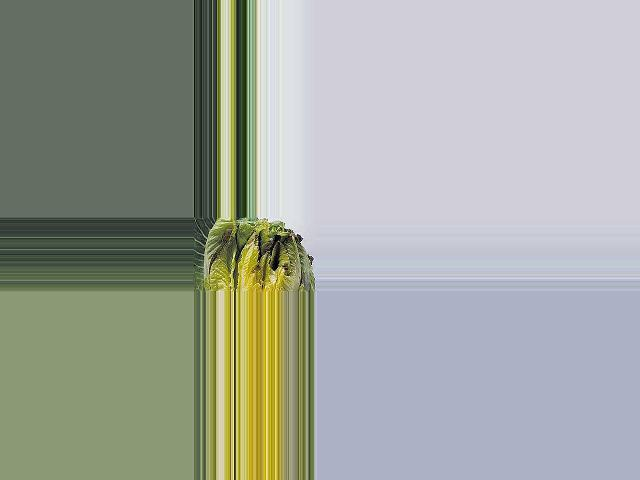lettuce: (193, 220, 310, 292)
